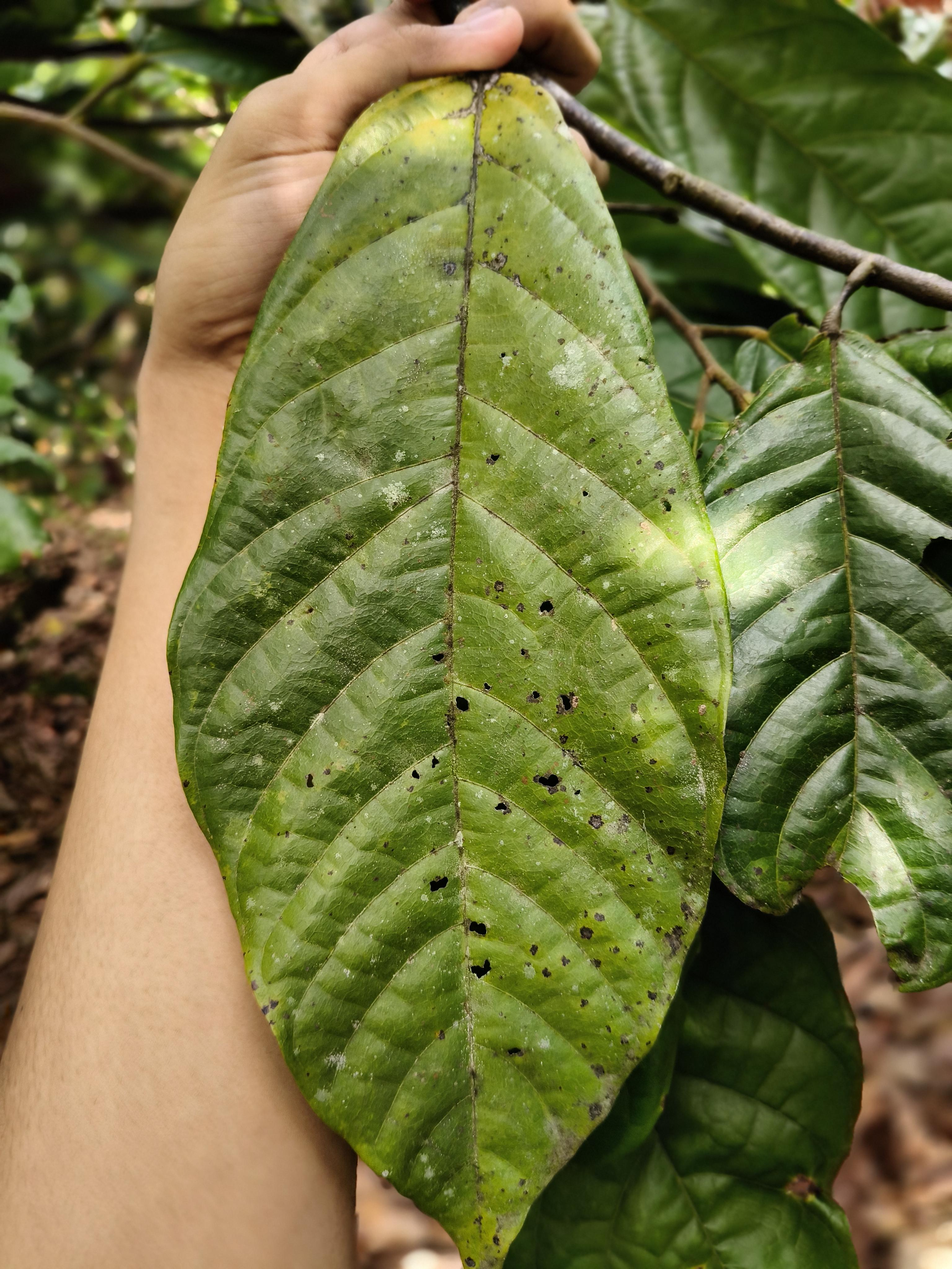deficiencia_potasio: (152, 77, 725, 1269)
